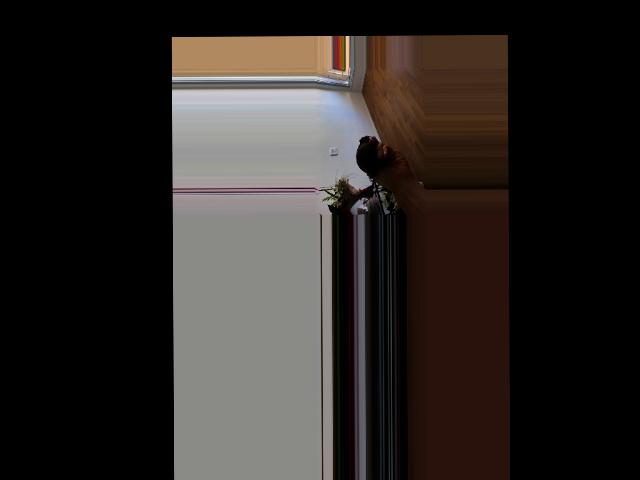beet: (356, 135, 379, 202)
